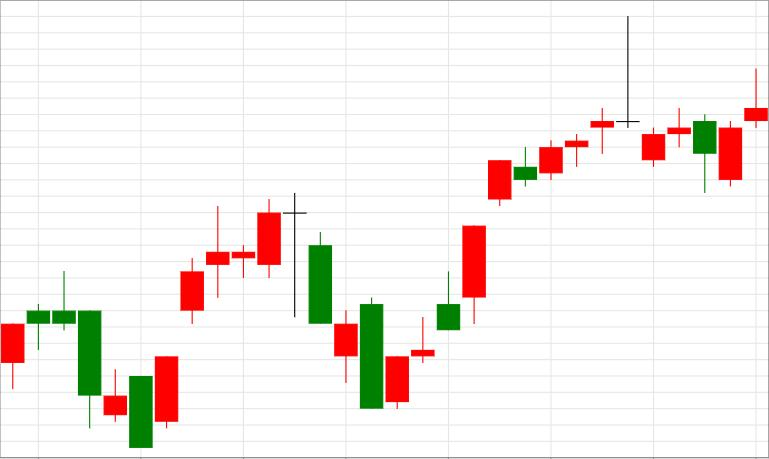evening_star_fall: (155, 193, 332, 429)
